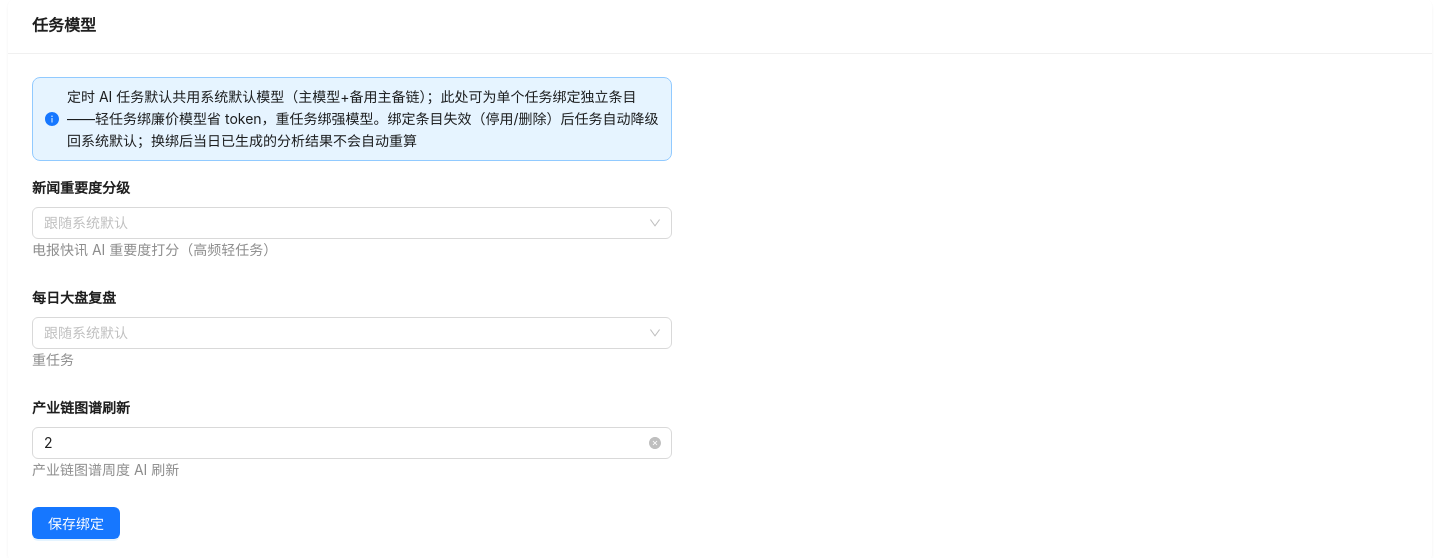
Test: TaskBindingTab › Select 只列 chat 用途且启用的条目
Press the mouse on the dropdown labelled "跟随系统默认" at (86, 222), box [44, 214, 128, 231]
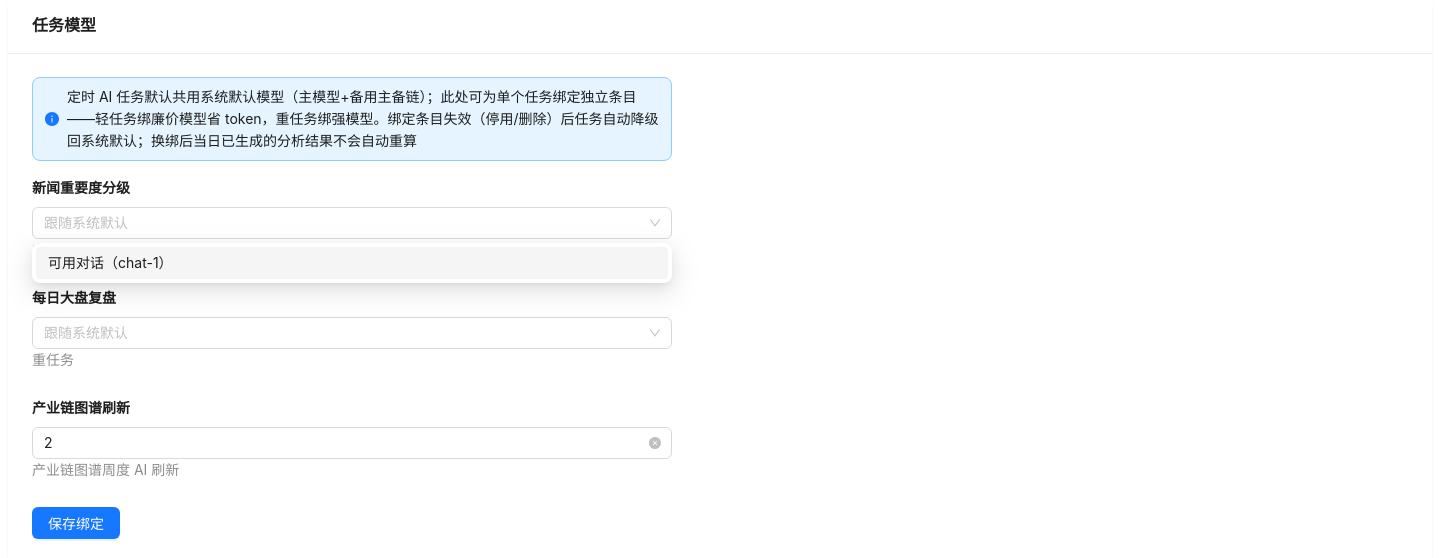
Check: the text "可用对话（chat-1）" is shown, box [48, 254, 173, 271]
